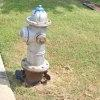a fire hydrant: (20, 4, 52, 72)
